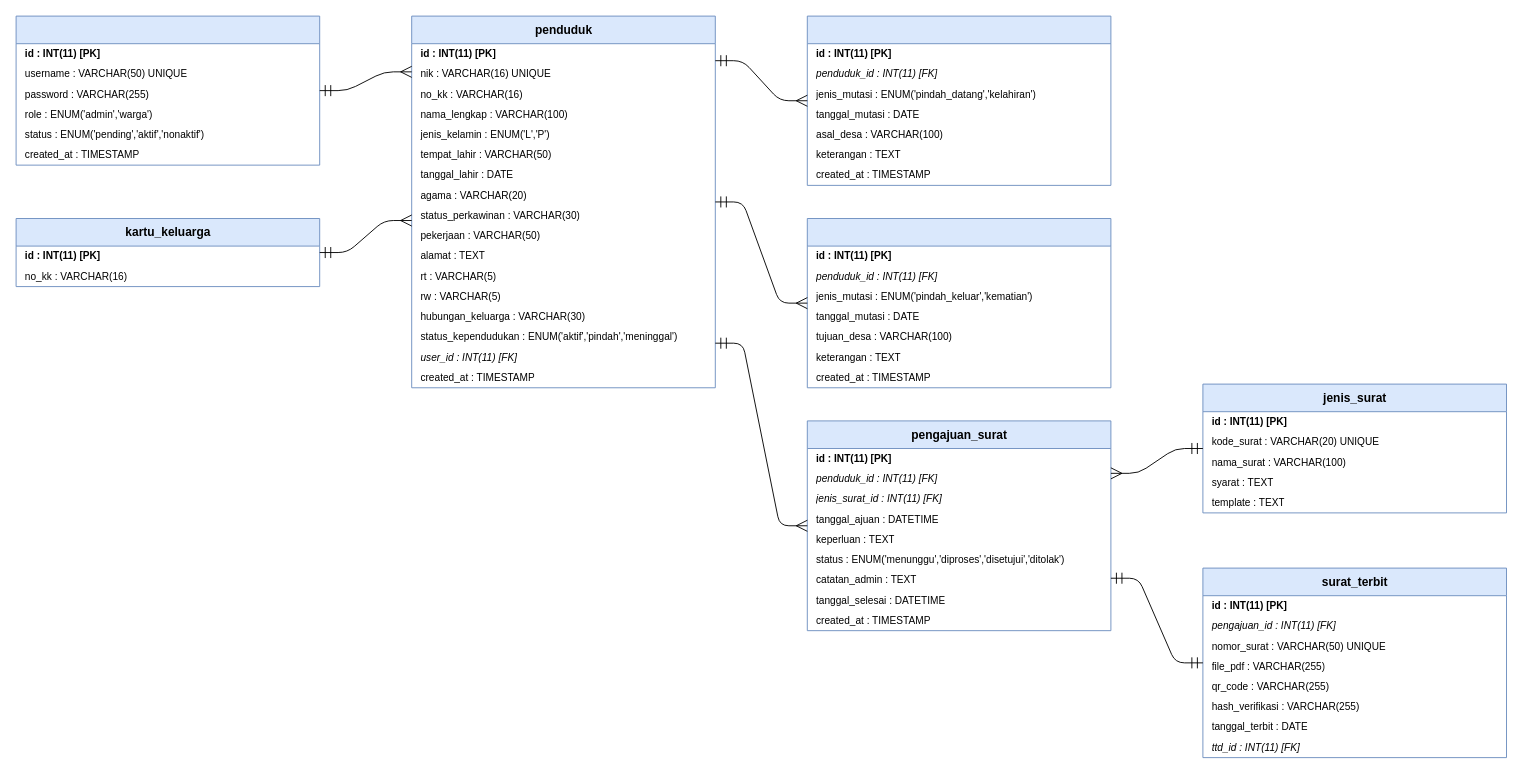
Image size: 1523x774. Some labels were removed from this diagram. The shapes that lost their labels are listed below. From the top down, each one's box as (x1, y1, x2, y2) in pixels, then its label:
(15, 15, 320, 165): users
(806, 15, 1111, 185): mutasi_masuk
(806, 218, 1111, 388): mutasi_keluar
